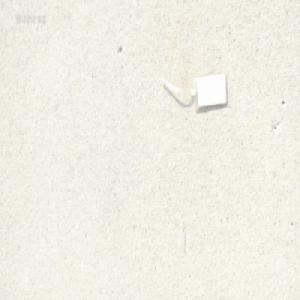LuggageTag: (157, 69, 229, 112)
